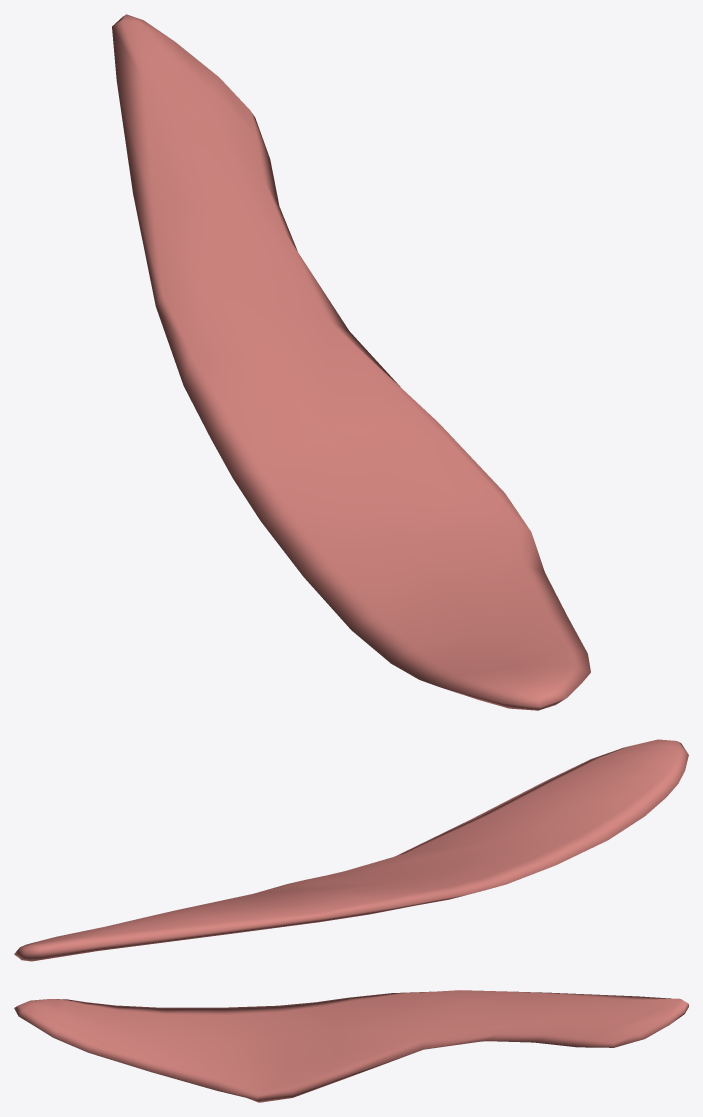
3 renders of one model, top to bottom at view 1: azimuth 30°, elevation 25°; view 2: azimuth 150°, elevation 25°; view 3: azimuth 270°, elevation 25°, orthographic. The views are drawn at different scales.
Visible parts, largest first — view 1: ZA_4f1ff694d18d4e91; view 2: ZA_4f1ff694d18d4e91; view 3: ZA_4f1ff694d18d4e91.
Boxes of the visible parts, x1,y1,x2,y2 form: ZA_4f1ff694d18d4e91: (112, 14, 590, 710); ZA_4f1ff694d18d4e91: (14, 739, 688, 961); ZA_4f1ff694d18d4e91: (14, 990, 688, 1102).
Size of the model in its own units: 0.00773 by 0.00437 by 0.0248.
